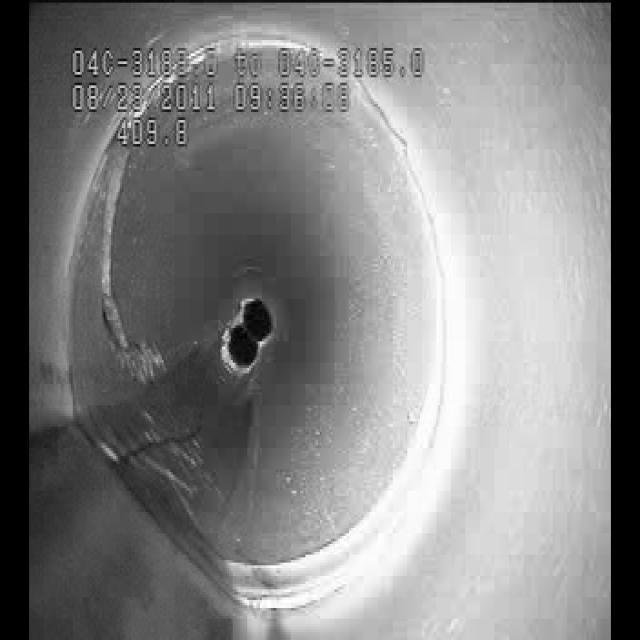Fracture: (78, 171, 164, 361)
